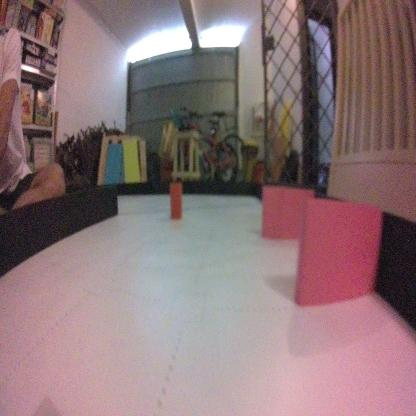magenta: (293, 198, 382, 310), (262, 183, 314, 242)
red: (170, 181, 184, 222)
